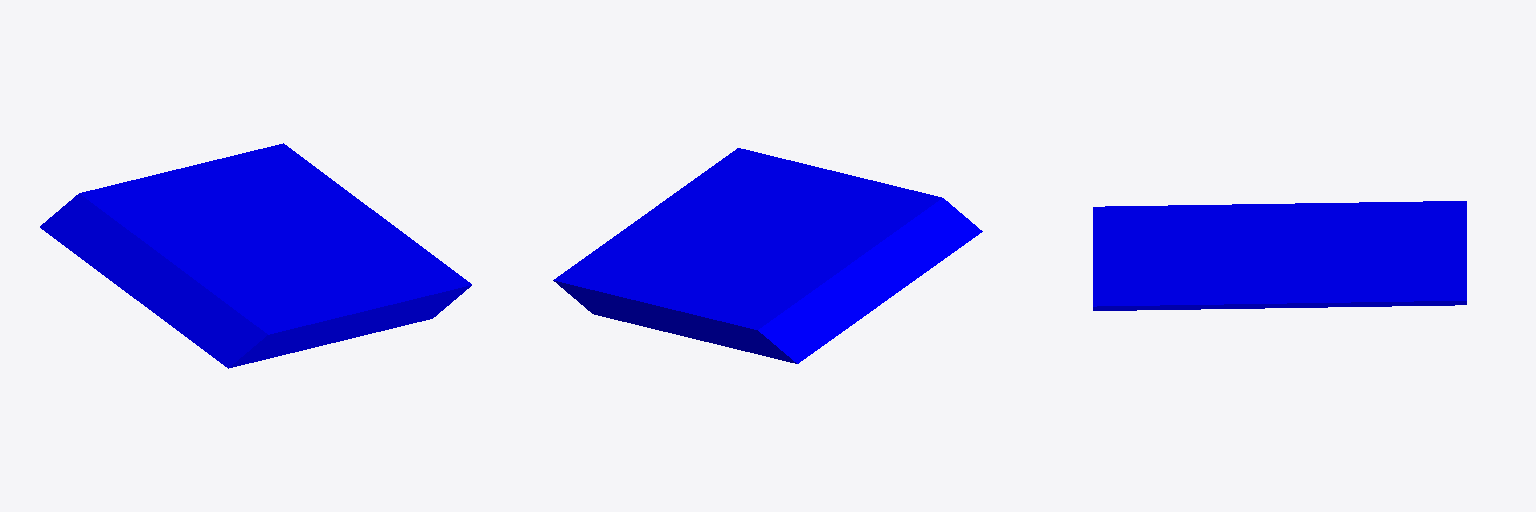
The model's file is planes_1-dynamic - BLK2GO-3630355-Scan 080 10.obj.
The picture shows the model from 3 angles: view 1: azimuth 30°, elevation 25°; view 2: azimuth 150°, elevation 25°; view 3: azimuth 270°, elevation 25°; orthographic projection.
Visible parts, largest first — view 1: 1-dynamic_-_BLK2GO-[number redacted]-Scan_080_10_0; view 2: 1-dynamic_-_BLK2GO-[number redacted]-Scan_080_10_0; view 3: 1-dynamic_-_BLK2GO-[number redacted]-Scan_080_10_0.
Part boxes in pixels (left/top/right/bottom): 1-dynamic_-_BLK2GO-[number redacted]-Scan_080_10_0: left=40, top=143, right=471, bottom=368; 1-dynamic_-_BLK2GO-[number redacted]-Scan_080_10_0: left=553, top=148, right=982, bottom=363; 1-dynamic_-_BLK2GO-[number redacted]-Scan_080_10_0: left=1093, top=201, right=1466, bottom=310.
Size of the model in its own units: 1.22 by 0.1371 by 1.6.